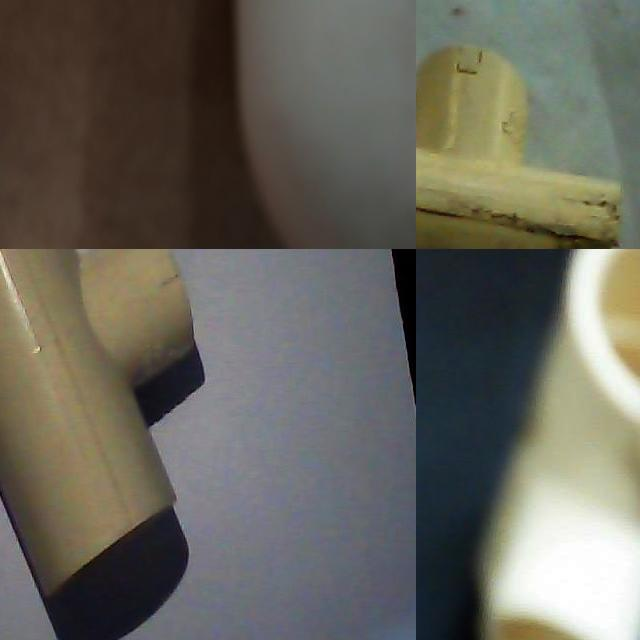Defective: (462, 175, 625, 249), (22, 193, 145, 249), (19, 22, 91, 111)
L Joint: (20, 0, 416, 249)
T Joint: (416, 45, 624, 249)
